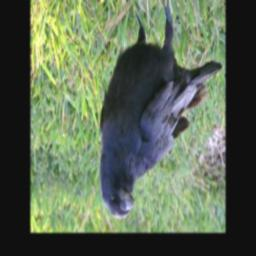Crow: (100, 0, 223, 220)
